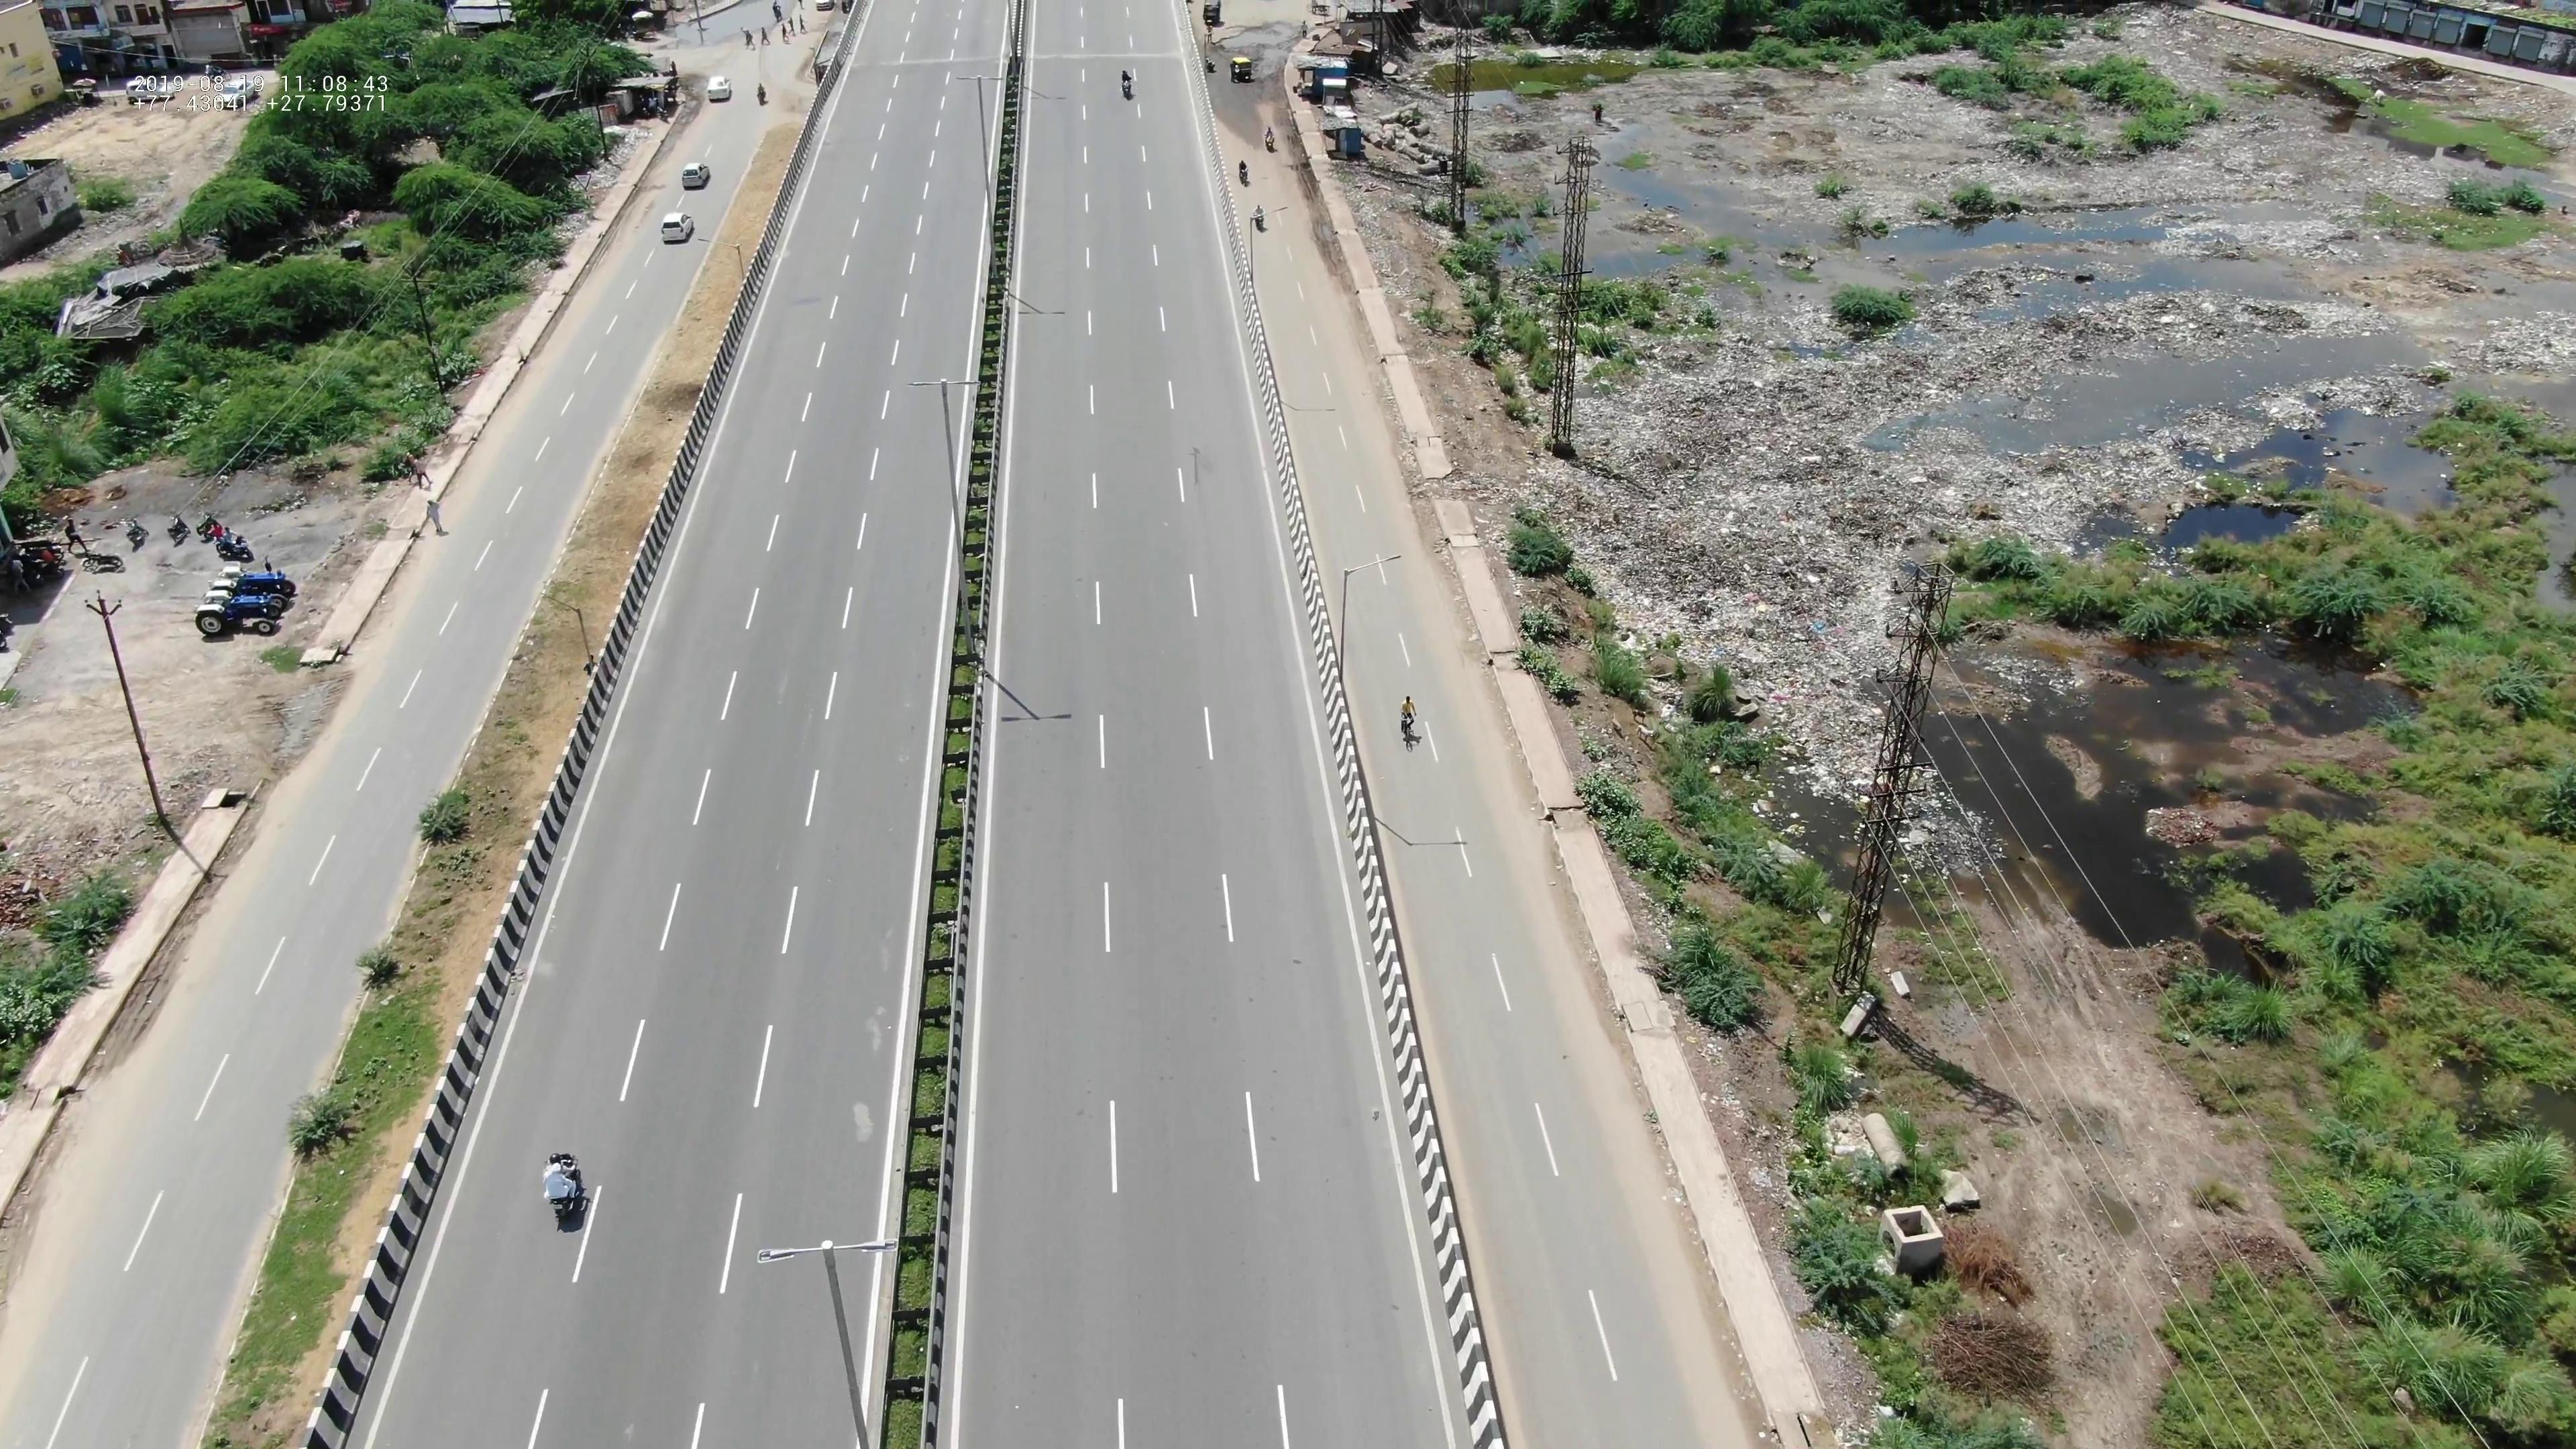Road_side_garbage: (1568, 357, 1921, 686)
